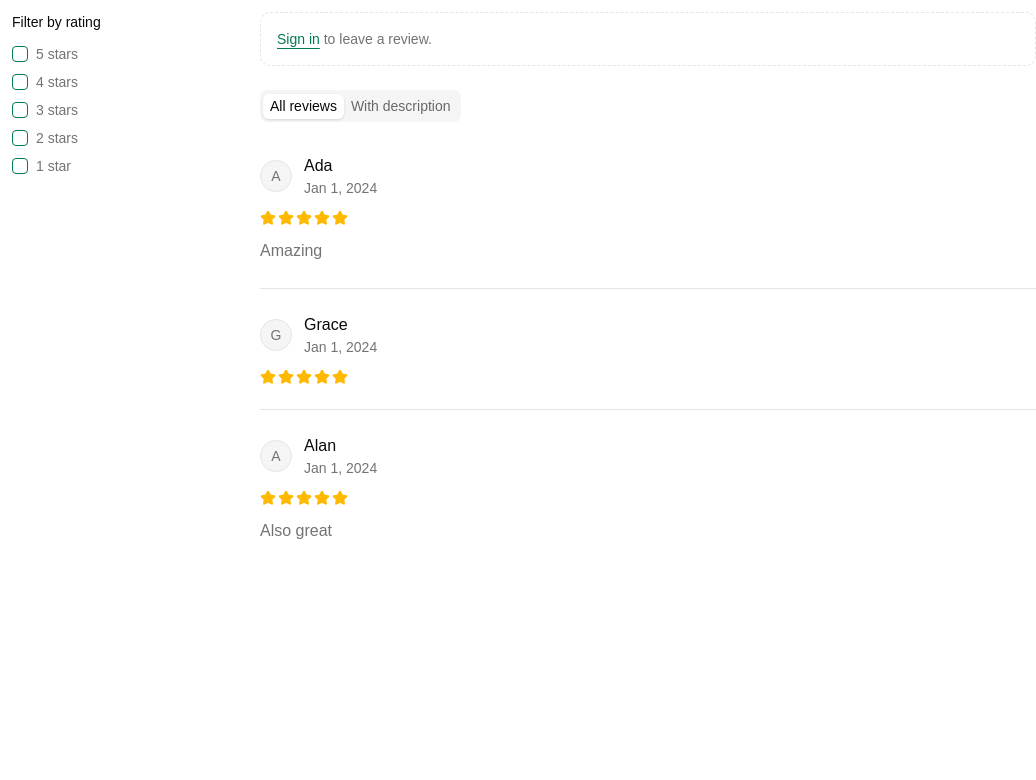
Test: ReviewList › filters out reviews with no comment when "With description" is selected
Expected: the text "Ada" is shown, x1=304 y1=157 x2=332 y2=174
Expected: the text "Grace" is shown, x1=304 y1=316 x2=348 y2=333
Step 1. Click the tab "With description" → coordinates (401, 106), box x1=344 y1=94 x2=458 y2=118
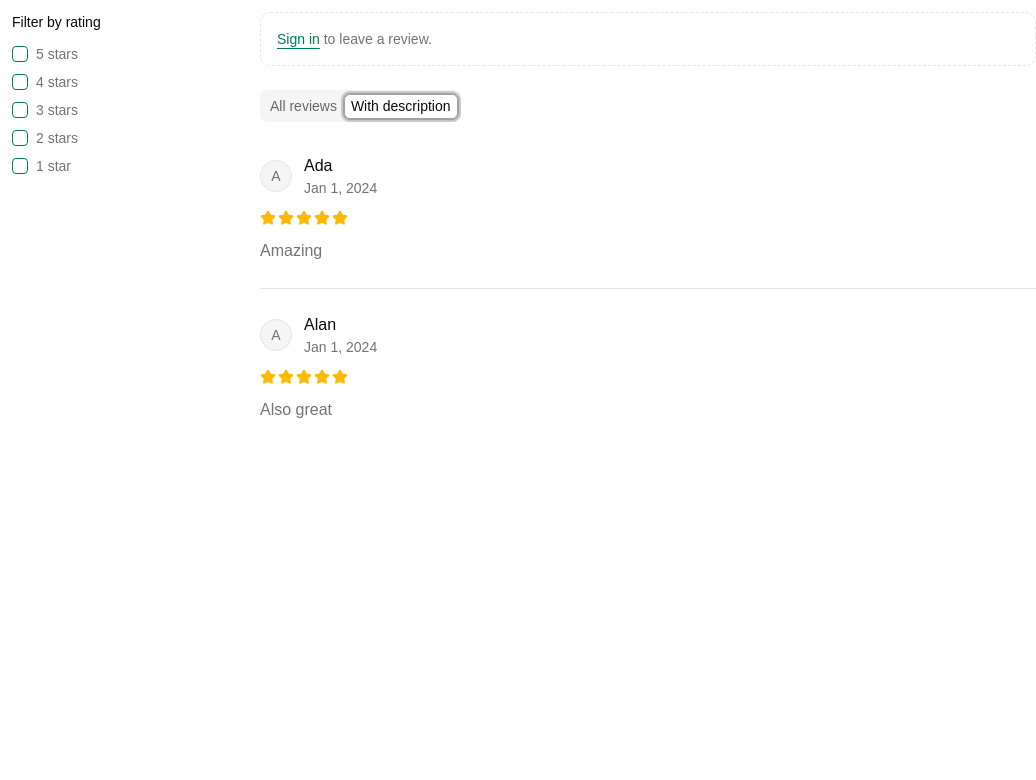
Expected: the text "Ada" is shown, x1=304 y1=157 x2=332 y2=174
Expected: the text "Grace" is gone
